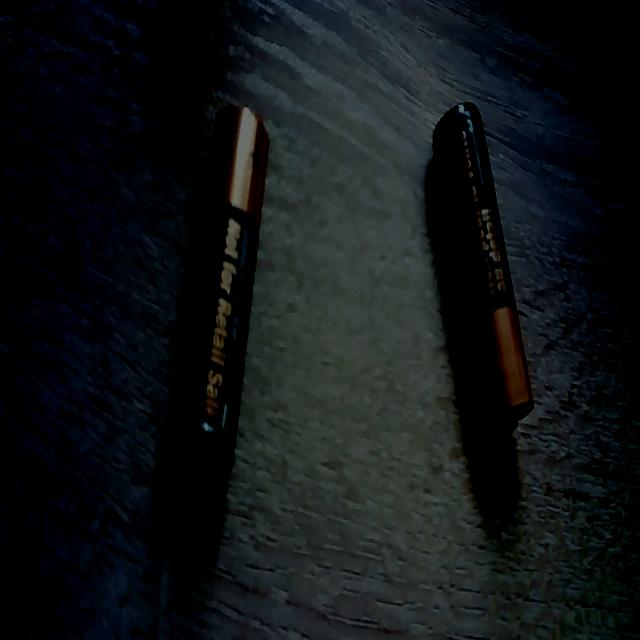AA: (170, 102, 269, 488), (430, 100, 534, 435)
